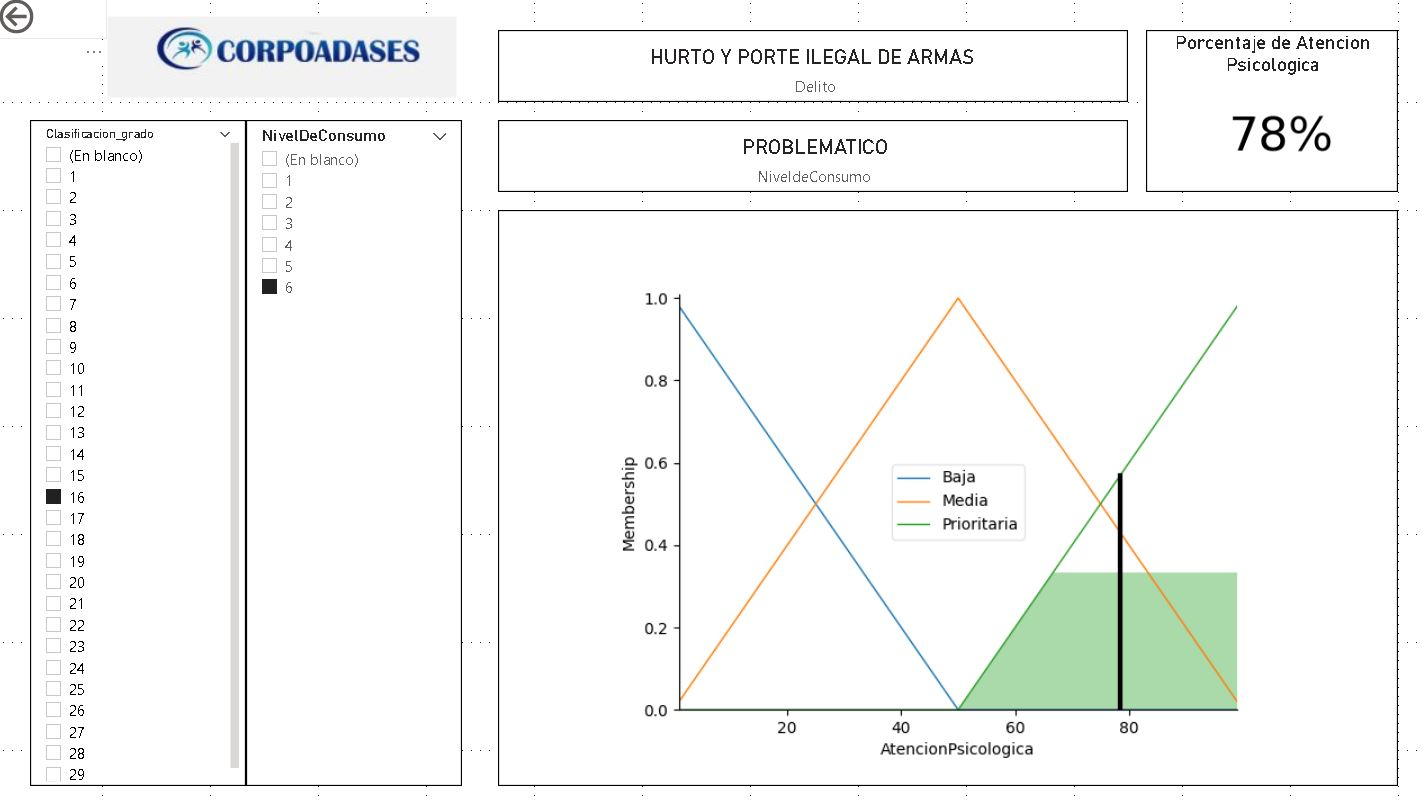

Layout of this report page (visuals, bound fields, positions):
{"tool":"powerbi","page":{"name":"AreasDeReFuerzoPsicologia","canvas":[1280,720],"ordinal":10},"visuals":[{"type":"image","box":[96,0,320,112],"z":0},{"type":"slicer","fields":{"Values":["dim_delito.Clasificacion_grado"]},"box":[32,112,192,592],"z":1000},{"type":"pythonVisual","fields":{"Values":["dim_delito.Clasificacion_grado","dim_niv_consumo.id"]},"box":[448,192,800,512],"z":2000},{"type":"actionButton","box":[0,0,100,40],"z":3000},{"type":"card","fields":{"Values":["Min(dim_niv_consumo.nivel_consumo)"]},"box":[448,112,560,64],"z":4000},{"type":"card","fields":{"Values":["Min(dim_delito.delito)"]},"box":[448,32,560,64],"z":5000},{"type":"slicer","fields":{"Values":["dim_niv_consumo.id"]},"box":[224,112,192,592],"z":6000},{"type":"pythonVisual","title":"Porcentaje de Atencion Psicologica","fields":{"Values":["dim_delito.Clasificacion_grado","dim_niv_consumo.id"]},"box":[1024,32,224,144],"z":7000}]}

Visuals, with their boxes in screenshot pixels (x1, y1, x2, y2):
image: 94:0:458:116
slicer - dim_delito.Clasificacion_grado: 22:116:240:789
pythonVisual - dim_delito.Clasificacion_grado x dim_niv_consumo.id: 494:207:1404:789
actionButton: 0:0:99:34
card - Min(dim_niv_consumo.nivel_consumo): 494:116:1131:189
card - Min(dim_delito.delito): 494:25:1131:98
slicer - dim_niv_consumo.id: 240:116:458:789
"Porcentaje de Atencion Psicologica" pythonVisual: 1149:25:1404:189
